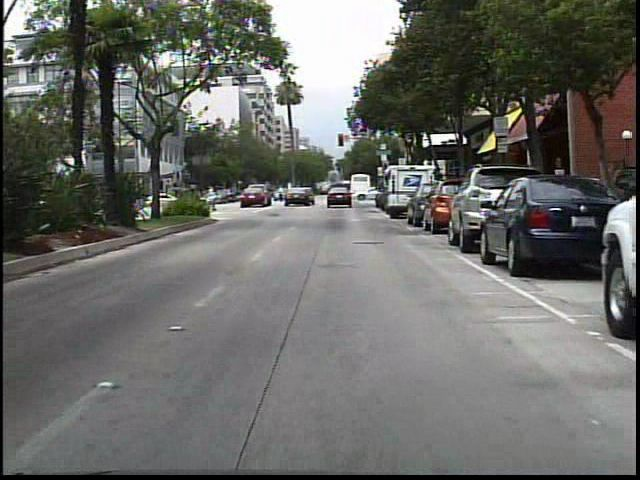person: (275, 181, 289, 205), (290, 183, 304, 205)
